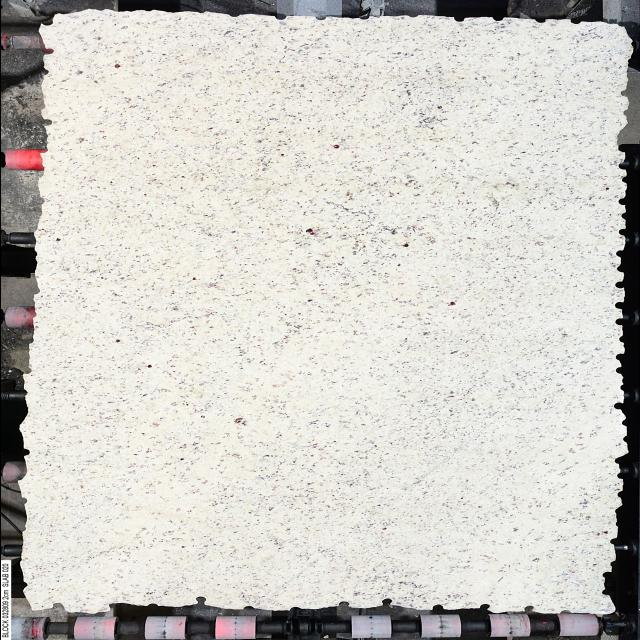chapa: (16, 9, 632, 615)
veio: (192, 594, 210, 606), (427, 601, 446, 612), (378, 597, 394, 609), (474, 602, 492, 612), (46, 602, 63, 612), (332, 600, 352, 608), (612, 279, 625, 291), (598, 587, 612, 598), (610, 400, 625, 410), (450, 15, 466, 24), (522, 604, 535, 614), (612, 318, 626, 327), (612, 301, 624, 310), (611, 366, 623, 374), (41, 48, 53, 56), (532, 18, 547, 24), (616, 198, 626, 206)
